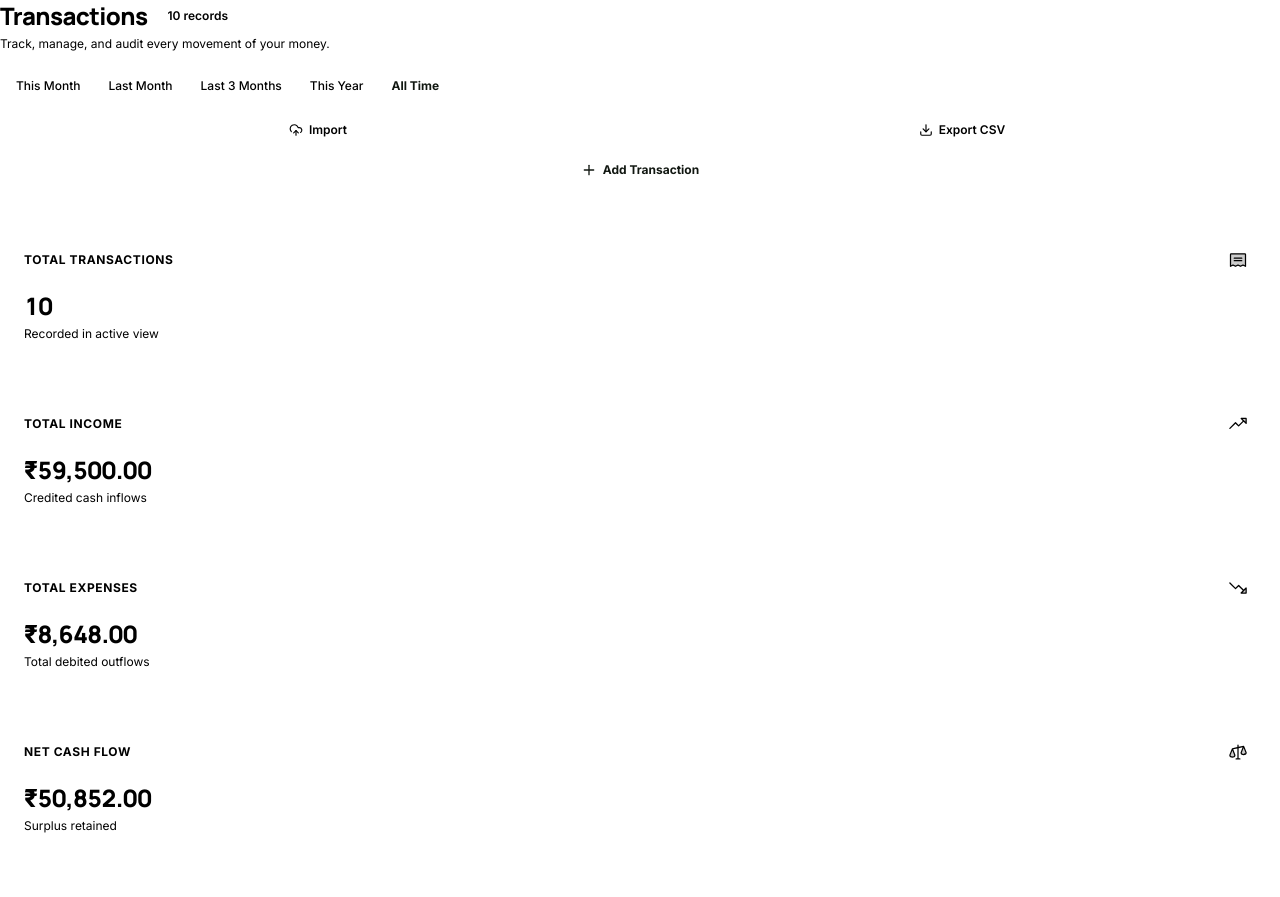
it: SPENDX Automatic Financial Data Capture & Import Engine › Import UI Modal Workflow › renders the Import CTA button in TransactionsPage and opens the import dialog
Click the button "Import": (318, 130) [0, 114, 636, 146]
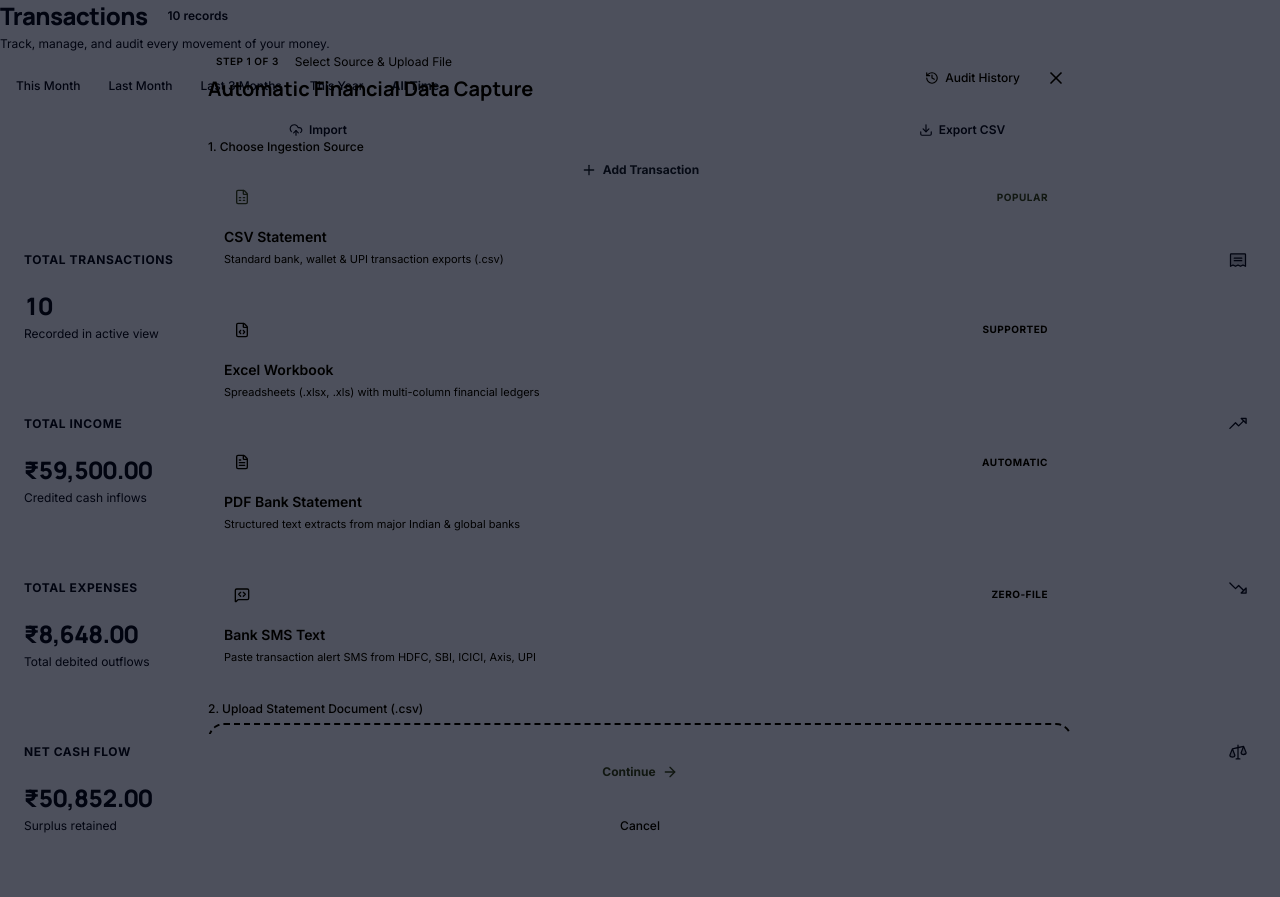
Now the heading "Automatic Financial Data Capture" is shown, box [208, 75, 533, 103]
Now the text "1. Choose Ingestion Source" is shown, box [208, 139, 364, 154]
Now the heading "Bank SMS Text" is shown, box [224, 626, 325, 642]
